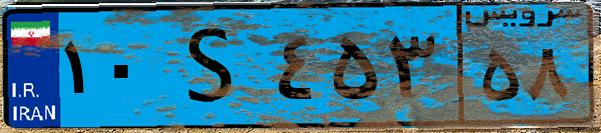0: (110, 28, 158, 98)
1: (57, 26, 110, 100)
3: (385, 28, 445, 110)
4: (270, 28, 330, 110)
5: (330, 28, 385, 110), (475, 38, 525, 113)
8: (525, 38, 570, 115)
S: (158, 12, 270, 120)
